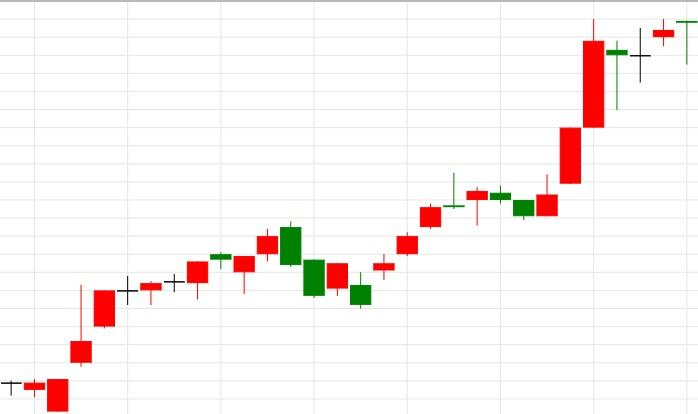bearish_engulfing_fall: (46, 221, 302, 413)
three_white_soldiers_rise: (466, 18, 605, 226)
